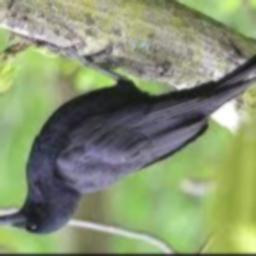Crow: (0, 47, 256, 235)
